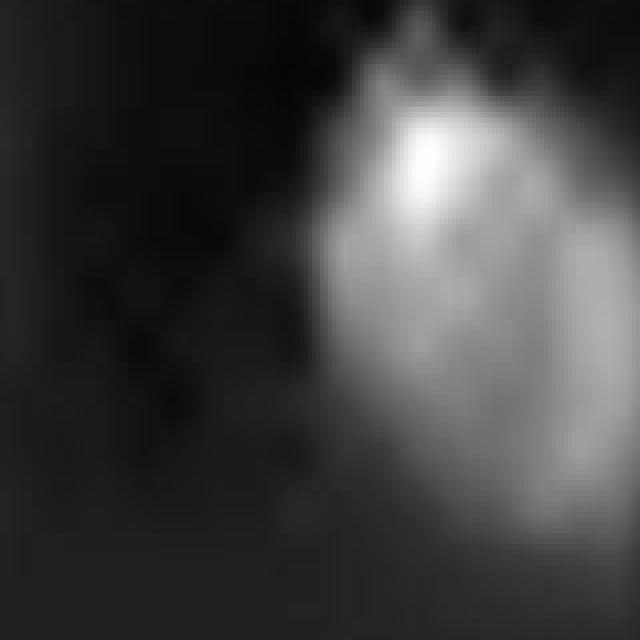person: (313, 1, 640, 640)
